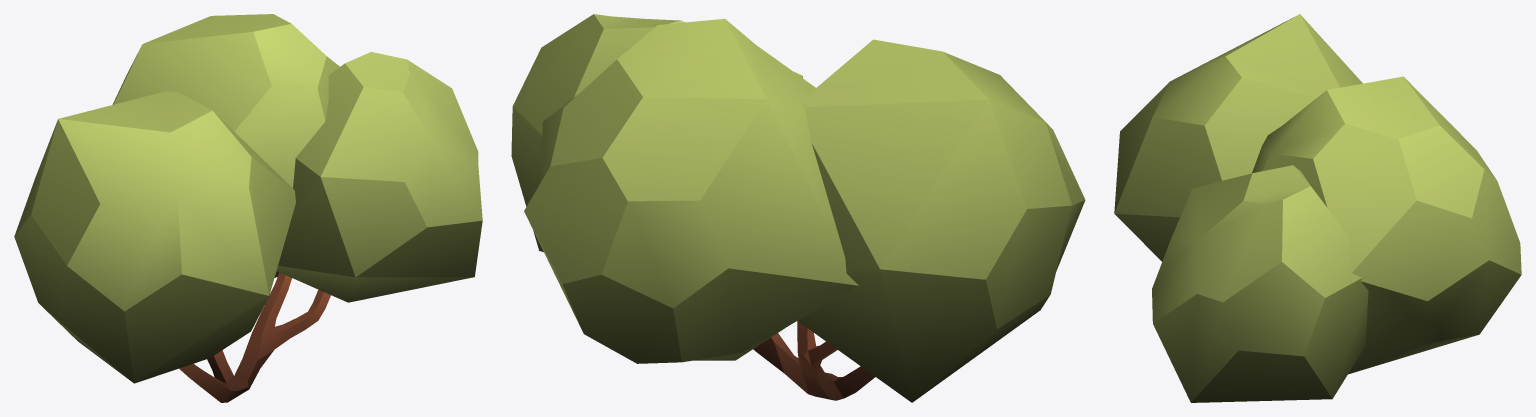
Rendered from bush1.fbx.
3 views of the same model, side by side, from view 1: azimuth 30°, elevation 25°; view 2: azimuth 150°, elevation 25°; view 3: azimuth 270°, elevation 25° (orthographic). The views are drawn at different scales.
Visible parts, largest first — view 1: bush5; view 2: bush5; view 3: bush5.
Part boxes in pixels (x1=…): bush5: x1=14, y1=14, x2=482, y2=402; bush5: x1=511, y1=14, x2=1085, y2=402; bush5: x1=1114, y1=14, x2=1521, y2=402.
Size of the model in its own units: 429 by 313 by 348.
